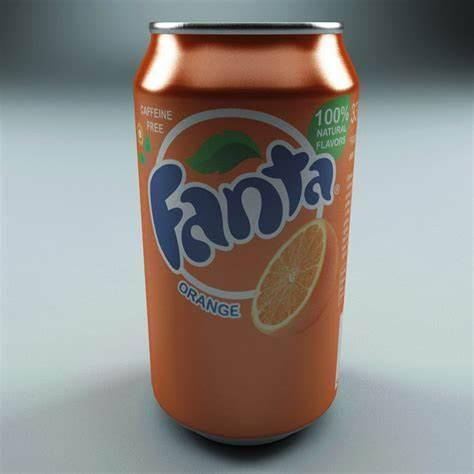metal: (134, 22, 359, 446)
